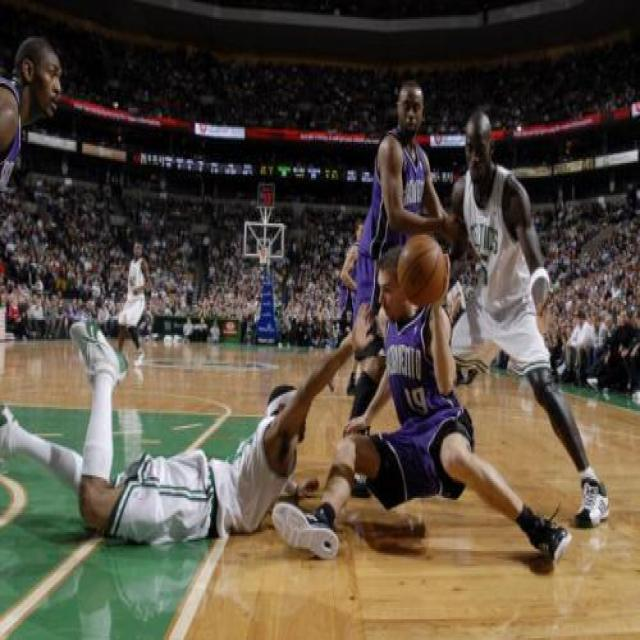10-: (0, 26, 639, 555)
down: (274, 235, 585, 585), (0, 316, 307, 540)
